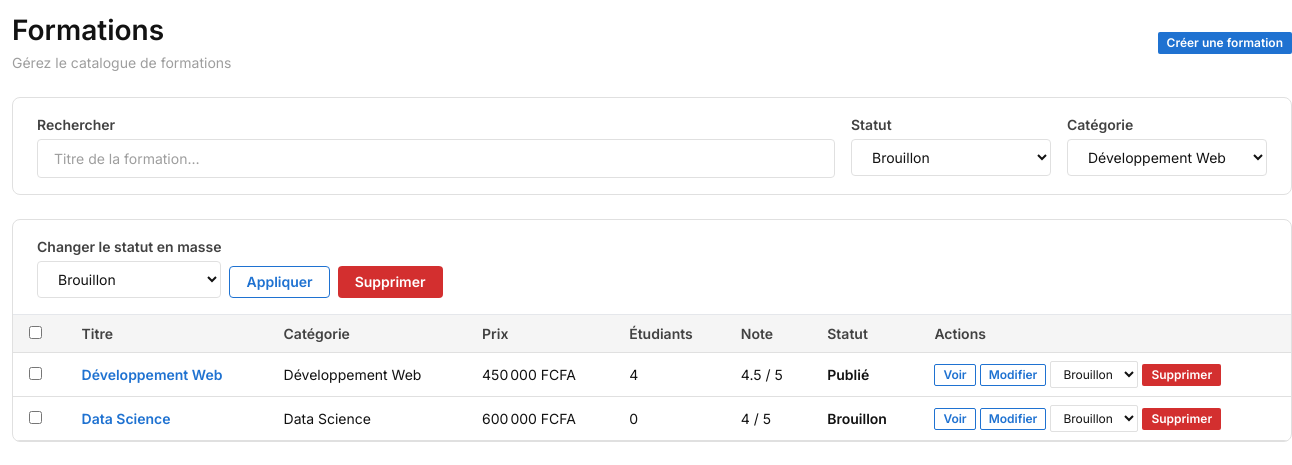
it: AdminFormationsComponent › should delete a formation
The width and height of the screenshot is (1292, 465).
Click the button "Supprimer" in the row of "600 000 FCFA". click: point(1182, 419)
box: [1142, 408, 1221, 430]
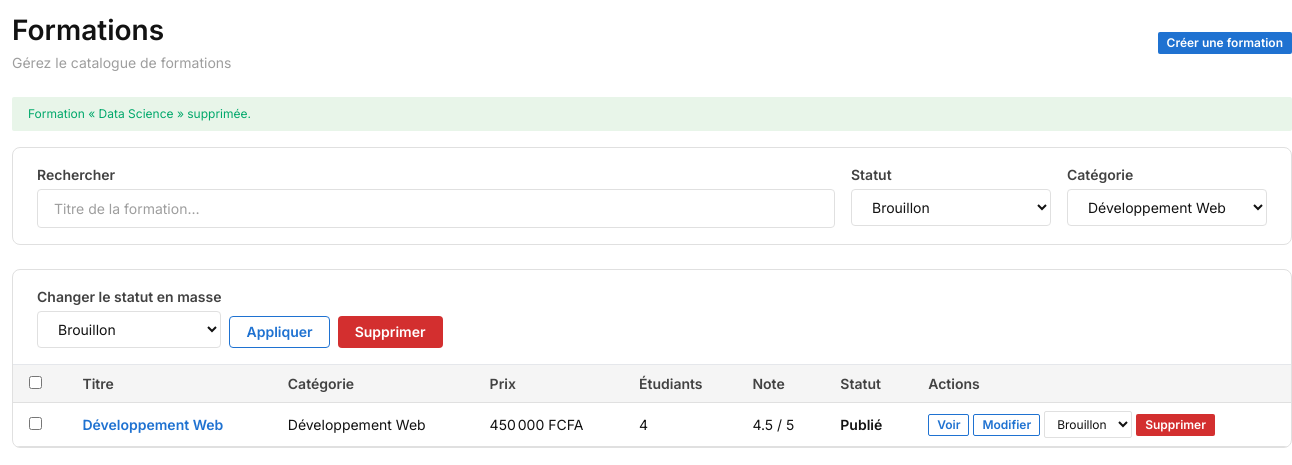
Result: the text "Data Science" is gone
